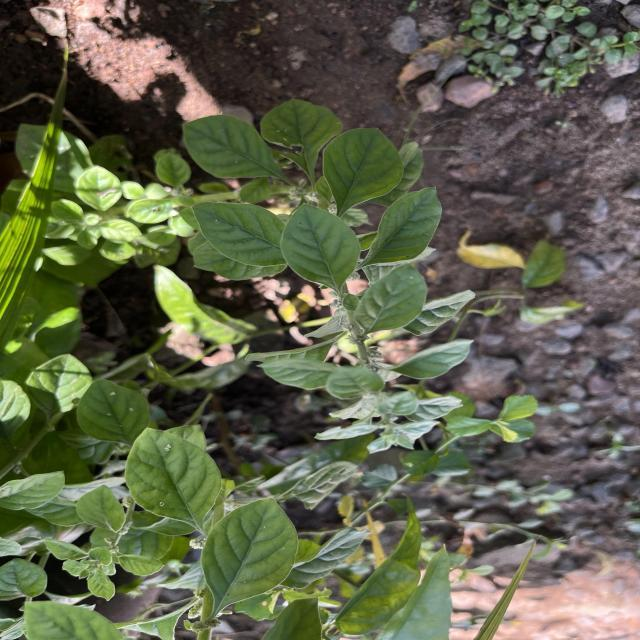Aerva lanata: (320, 125, 406, 216), (358, 185, 444, 270), (190, 200, 291, 268)
